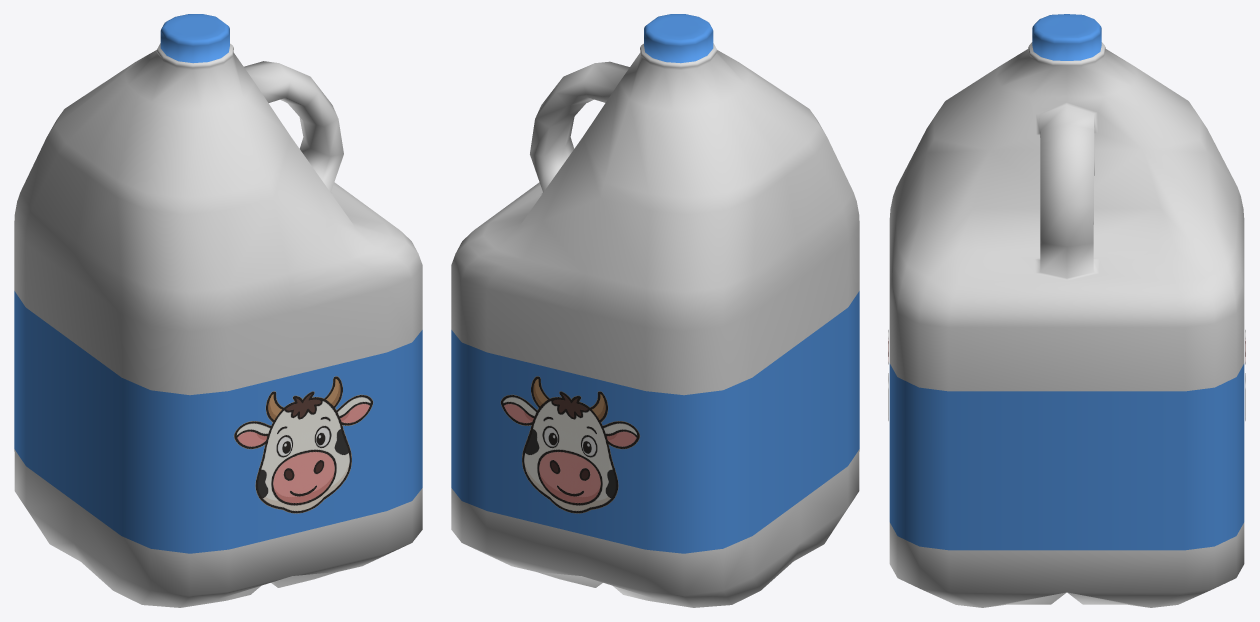
File: Asset_02_envase-leche.fbx
3 views of the same model, side by side, from view 1: azimuth 30°, elevation 25°; view 2: azimuth 150°, elevation 25°; view 3: azimuth 270°, elevation 25° (orthographic).
Visible parts, largest first — view 1: Cube, Empty.004; view 2: Cube, Empty.003; view 3: Cube.
Part boxes in pixels (bbox=[...]): Cube: bbox=[14, 14, 422, 607]; Empty.004: bbox=[233, 376, 373, 513]; Cube: bbox=[451, 14, 859, 607]; Empty.003: bbox=[500, 376, 640, 513]; Cube: bbox=[889, 14, 1244, 607].
Size of the model in its own units: 485 by 855 by 529.
